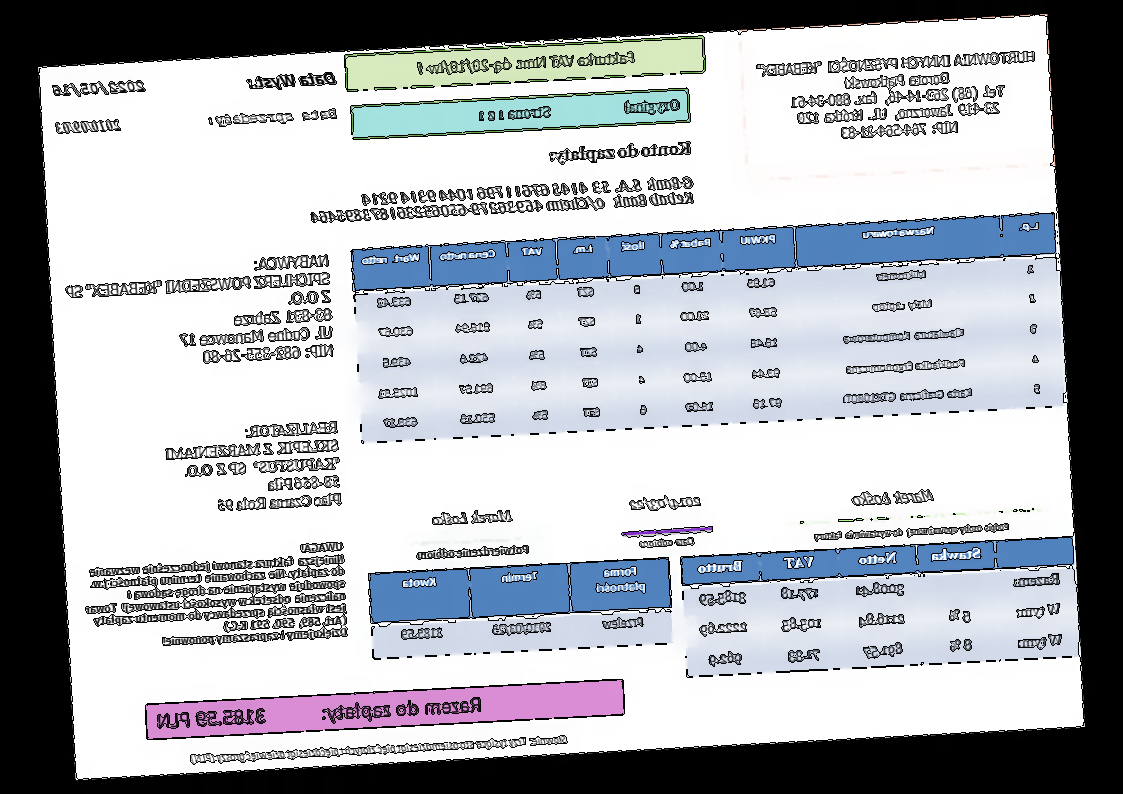Table: (350, 212, 1066, 444), (678, 535, 1080, 679), (367, 556, 675, 660)
TextBox: (62, 252, 337, 373), (80, 538, 351, 654), (753, 47, 1040, 148), (308, 174, 697, 228), (161, 418, 344, 517), (188, 731, 570, 768), (154, 693, 484, 735), (416, 47, 637, 78), (476, 96, 682, 124), (810, 518, 1013, 544), (546, 137, 695, 167), (207, 106, 340, 128), (413, 542, 532, 562), (52, 76, 150, 100), (244, 68, 339, 91), (850, 486, 935, 508), (626, 492, 705, 515), (430, 508, 515, 529), (55, 117, 124, 135), (638, 533, 698, 551)
